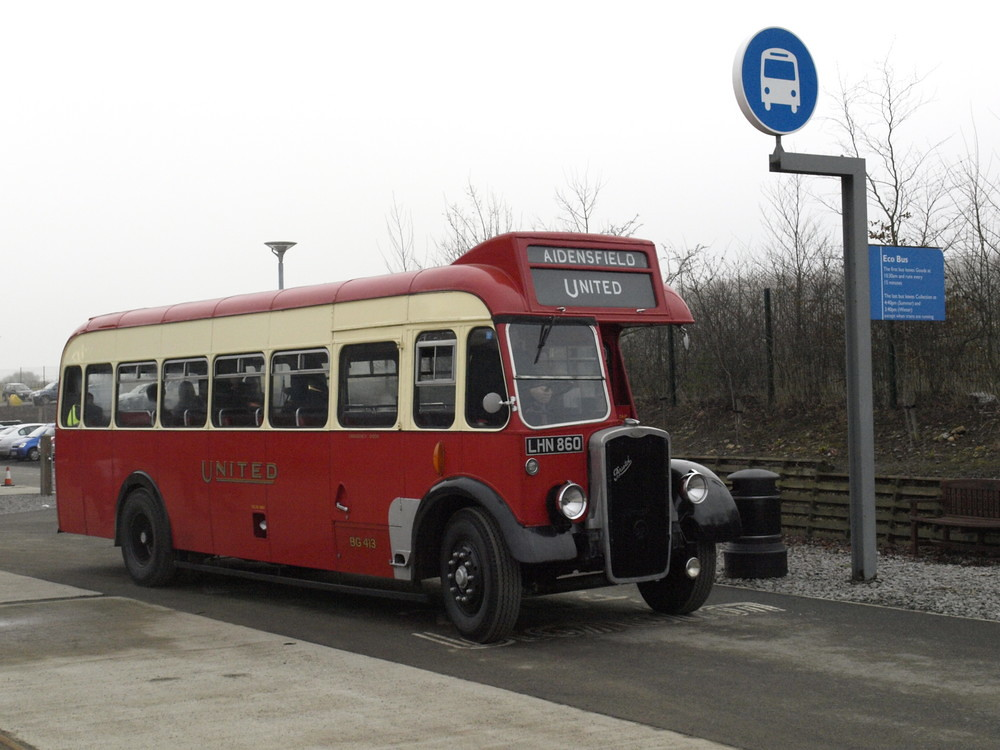bus: (41, 226, 750, 634)
